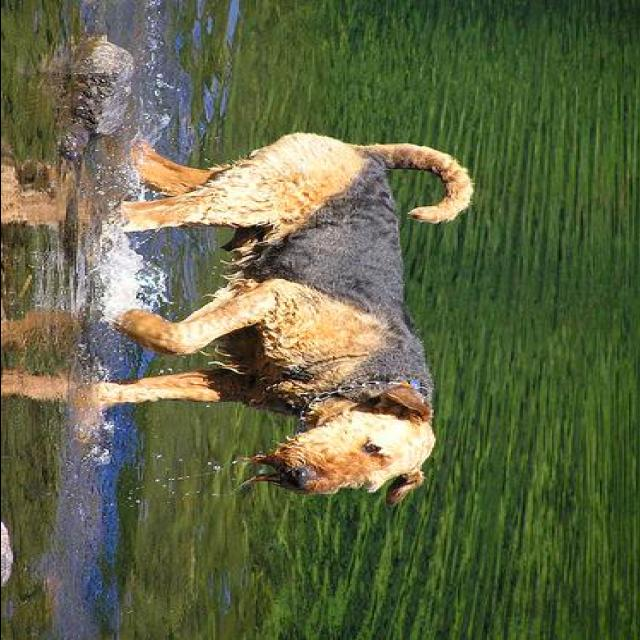airedale: (108, 132, 472, 506)
